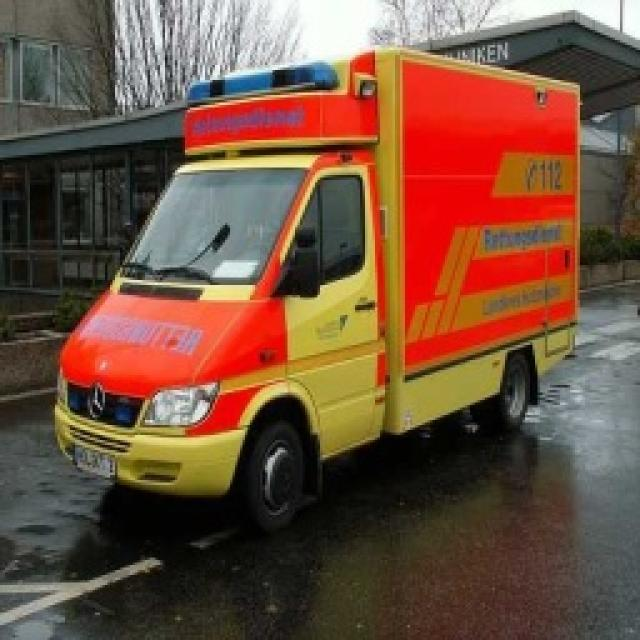emergency-vehicle: (64, 36, 580, 526)
